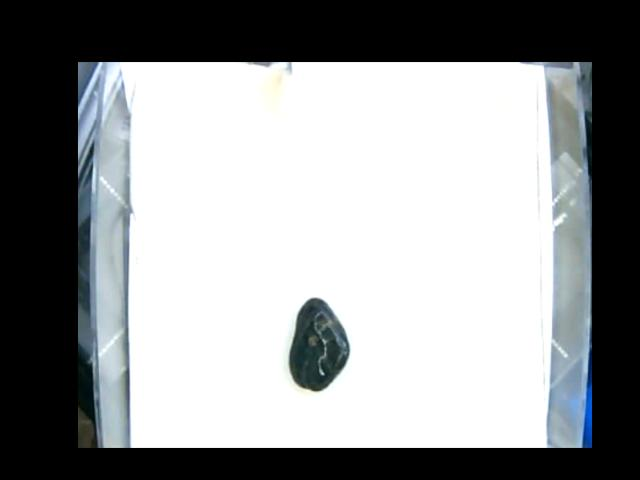Pebble: (288, 296, 348, 392)
